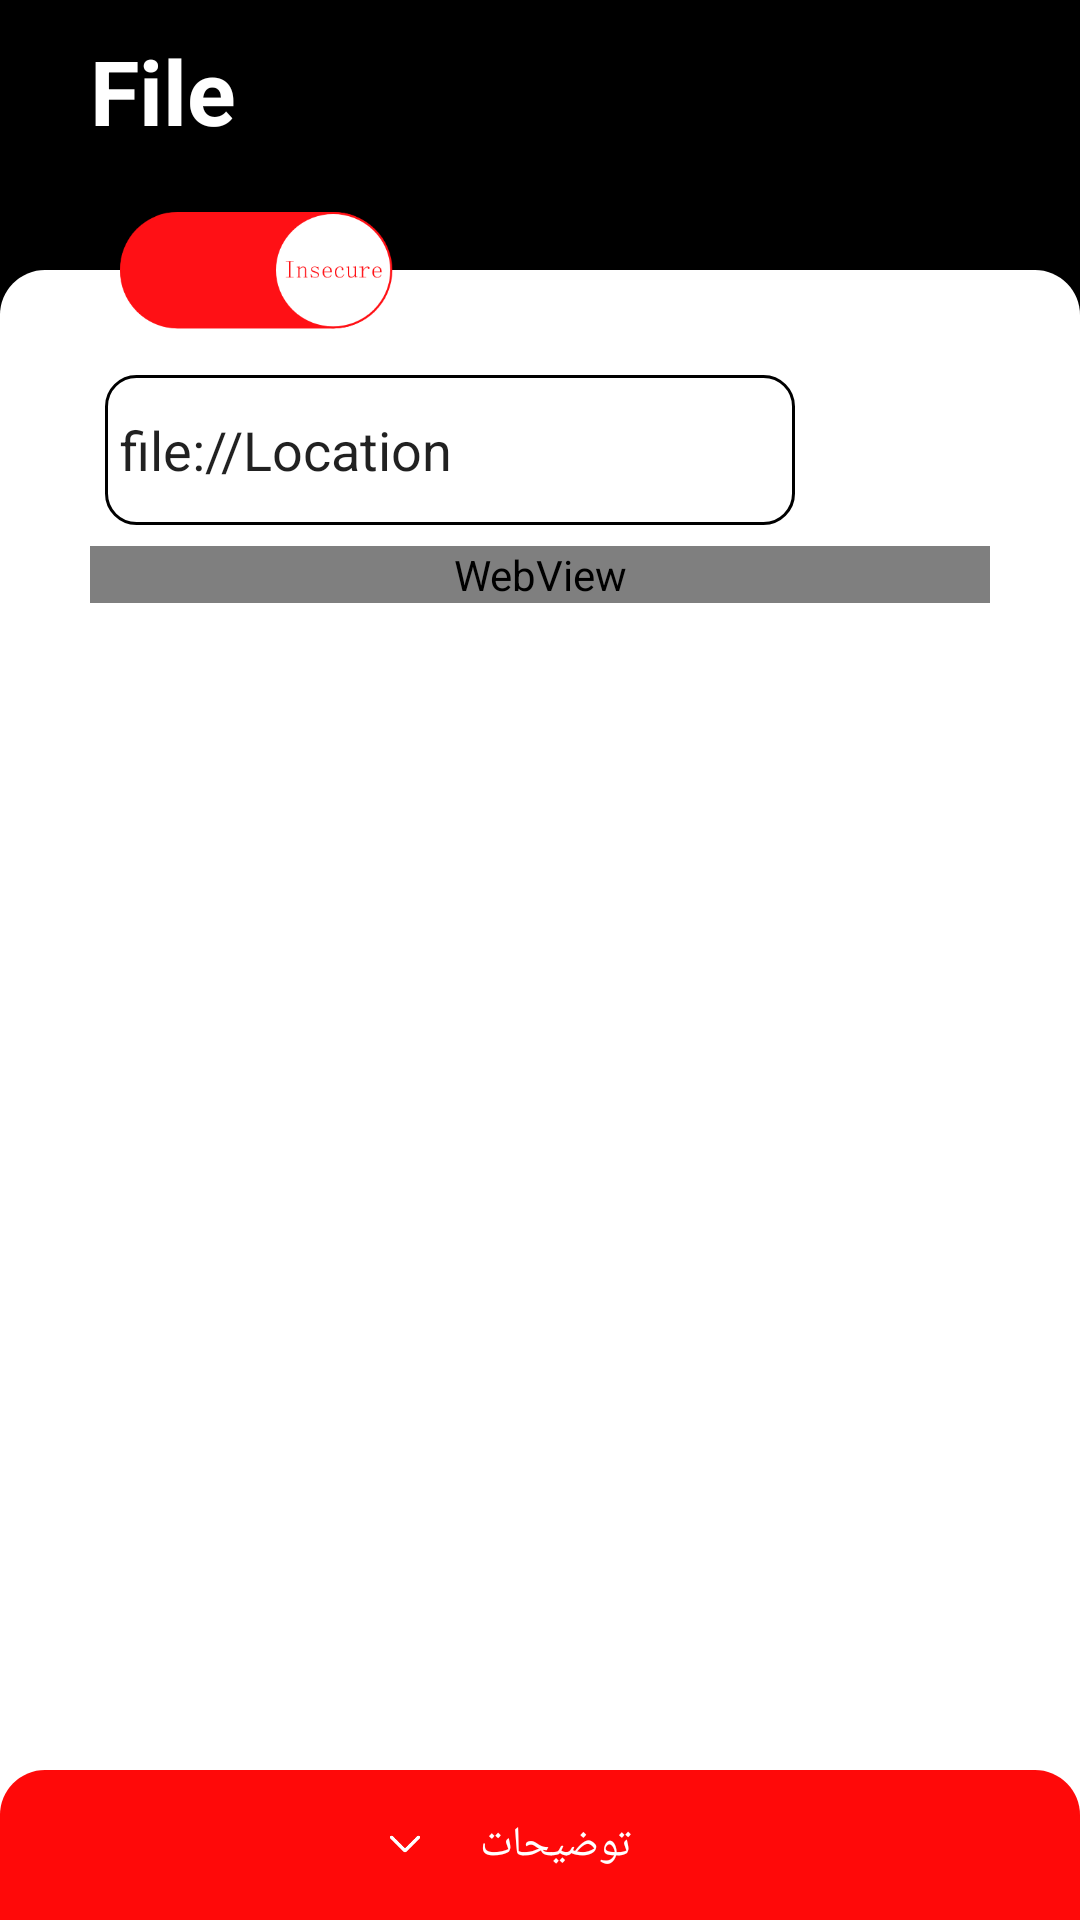

Icons on this 1080×1920 Android screen, each with the point to tap as [x,y]:
toggle switch: [256,270]
